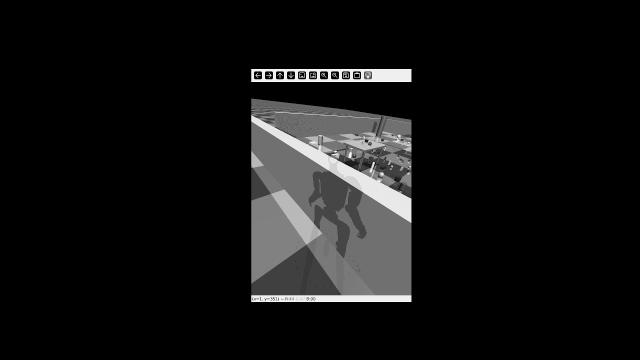cilindro: (375, 116, 388, 136), (398, 182, 409, 190), (318, 134, 324, 145), (371, 162, 376, 169), (383, 156, 387, 161), (362, 135, 366, 139), (361, 140, 365, 144), (388, 160, 392, 164), (354, 133, 359, 136), (350, 148, 353, 153), (406, 169, 411, 172), (377, 152, 381, 155), (401, 140, 405, 143), (408, 159, 411, 162), (337, 158, 339, 161)
cuadrado: (308, 142, 318, 149), (394, 175, 403, 181), (368, 156, 374, 161), (365, 139, 369, 143), (381, 138, 385, 141), (400, 167, 404, 170), (373, 151, 376, 155), (401, 138, 404, 140), (391, 134, 394, 136)
esfera: (378, 172, 386, 178), (396, 134, 401, 138), (368, 141, 373, 145), (352, 153, 357, 157), (389, 164, 394, 167), (383, 147, 387, 150), (408, 164, 411, 168), (335, 150, 338, 153), (407, 141, 410, 144), (395, 138, 399, 140), (396, 155, 400, 157), (401, 160, 404, 162)
rectangulo: (379, 165, 387, 170)
